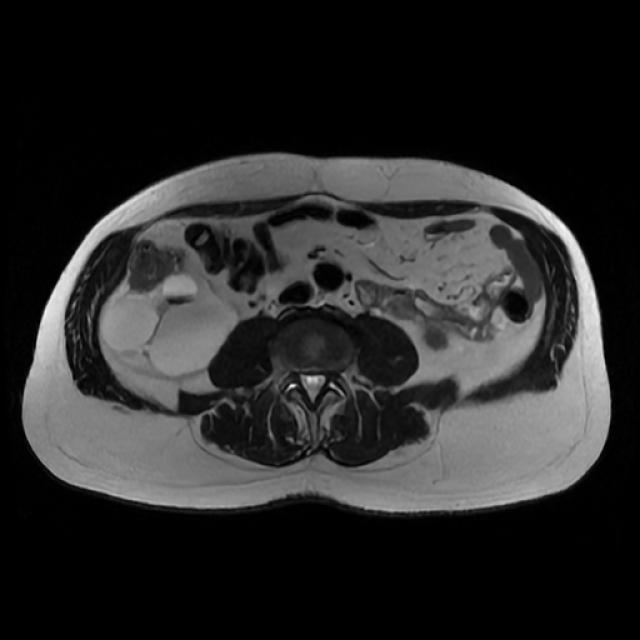sag: (102, 274, 233, 373)
sol: (425, 323, 450, 352)
